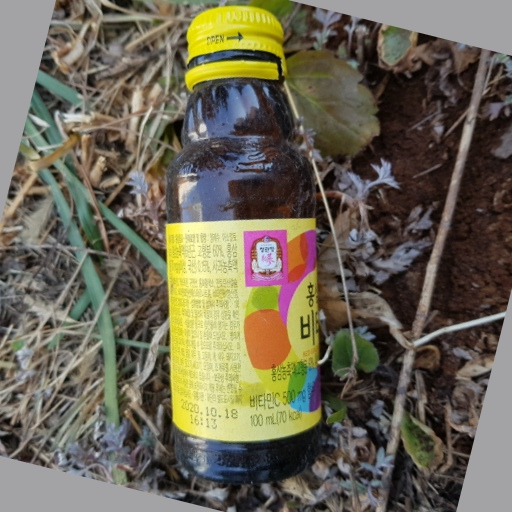Glass_3: (167, 7, 326, 482)
